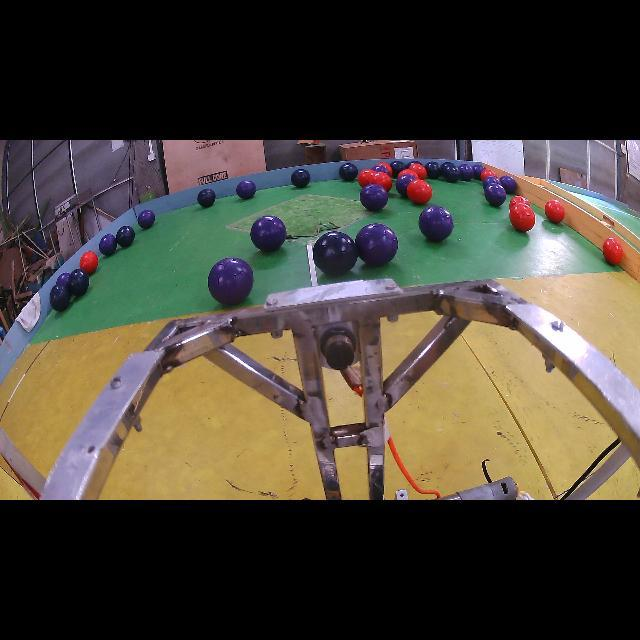B: (312, 231, 358, 275), (69, 269, 89, 296), (50, 284, 70, 311), (116, 225, 135, 248), (291, 169, 310, 188), (198, 189, 216, 208), (339, 164, 358, 181), (442, 166, 460, 182), (425, 161, 441, 179), (56, 272, 70, 287)
P: (208, 258, 254, 305), (355, 224, 399, 266), (250, 215, 286, 251), (419, 206, 454, 241), (360, 184, 389, 211), (485, 184, 506, 206), (99, 234, 118, 256), (236, 180, 256, 199), (500, 175, 518, 193), (138, 210, 155, 229), (459, 164, 474, 181)
R: (510, 202, 535, 231), (406, 179, 432, 204), (602, 238, 622, 265), (545, 199, 565, 223), (80, 251, 99, 274), (369, 172, 392, 191), (358, 169, 376, 188), (409, 162, 428, 180), (376, 162, 392, 176), (480, 169, 498, 181)
